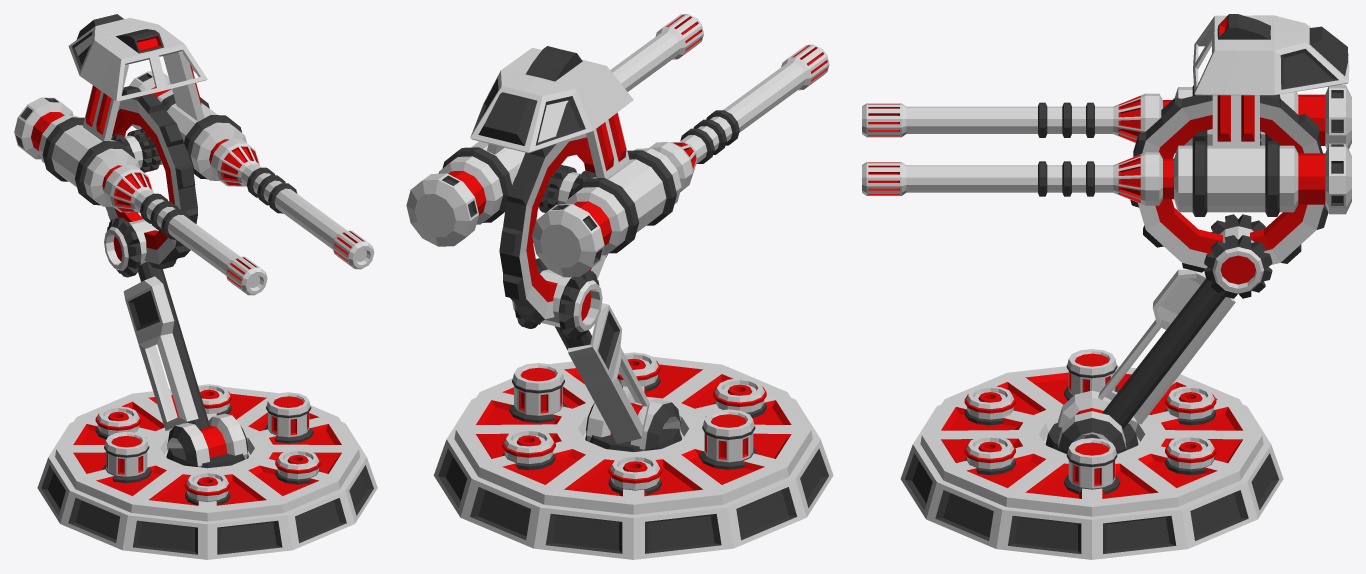
The model's file is mid_tower1_1.fbx.
The picture shows the model from 3 angles, left to right: view 1: azimuth 30°, elevation 25°; view 2: azimuth 150°, elevation 25°; view 3: azimuth 270°, elevation 25°; orthographic projection. The views are drawn at different scales.
Visible parts, largest first — view 1: polySurface184; view 2: polySurface184; view 3: polySurface184.
Part boxes in pixels (left/top/right/bottom): polySurface184: left=14, top=14, right=377, bottom=559; polySurface184: left=406, top=14, right=833, bottom=559; polySurface184: left=862, top=14, right=1351, bottom=559.
Bounding box in the file's own units: 0.6758 × 0.8918 × 0.8643.
